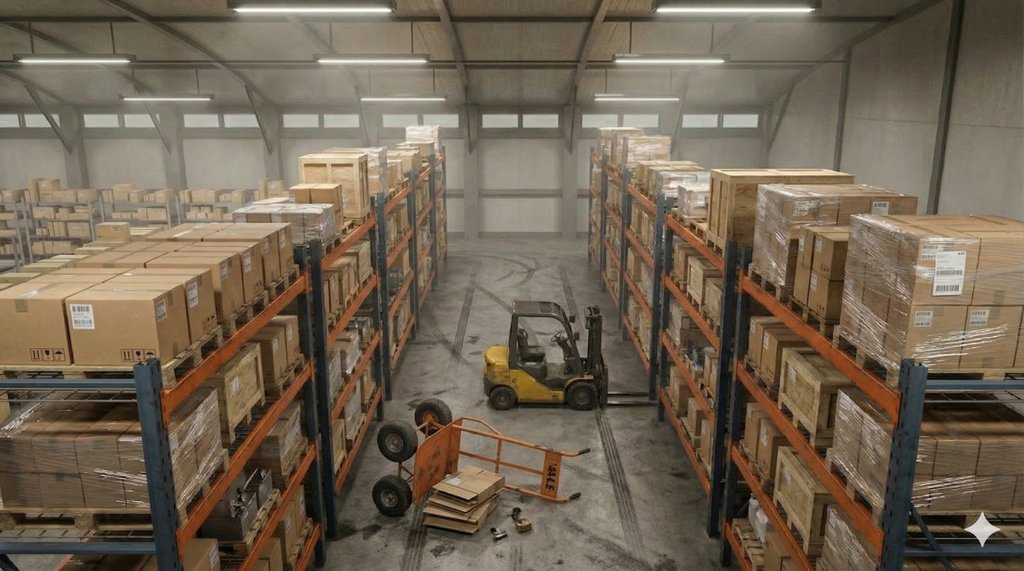forklift: (481, 291, 667, 434)
obstacle: (353, 388, 623, 558)
pallet: (2, 497, 155, 548), (156, 322, 237, 390), (820, 448, 887, 530), (825, 324, 904, 392), (763, 489, 823, 551), (780, 288, 839, 342), (742, 262, 789, 311), (776, 392, 820, 443), (735, 353, 772, 396)
